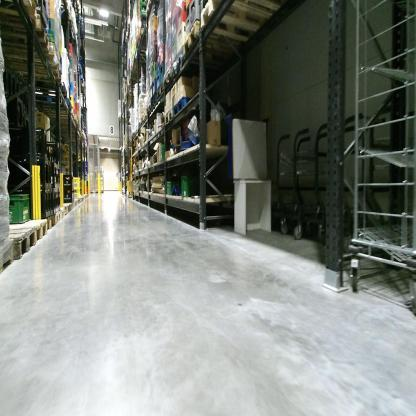pallets: (0, 196, 86, 276)
